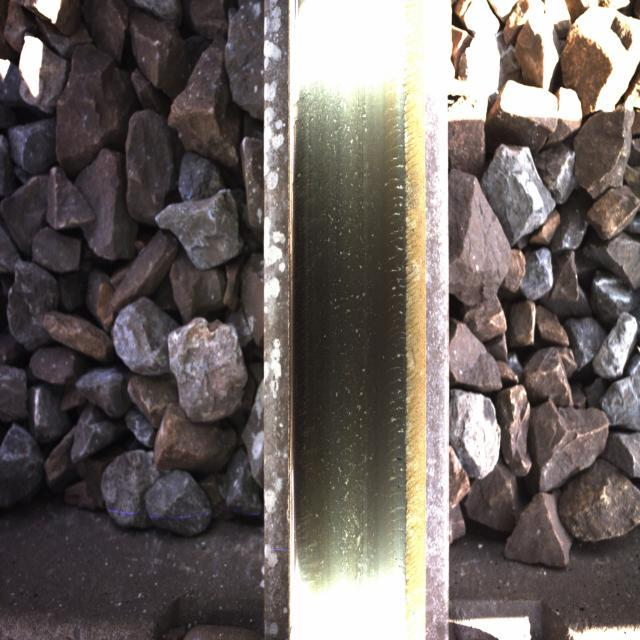break: (296, 29, 396, 571)
